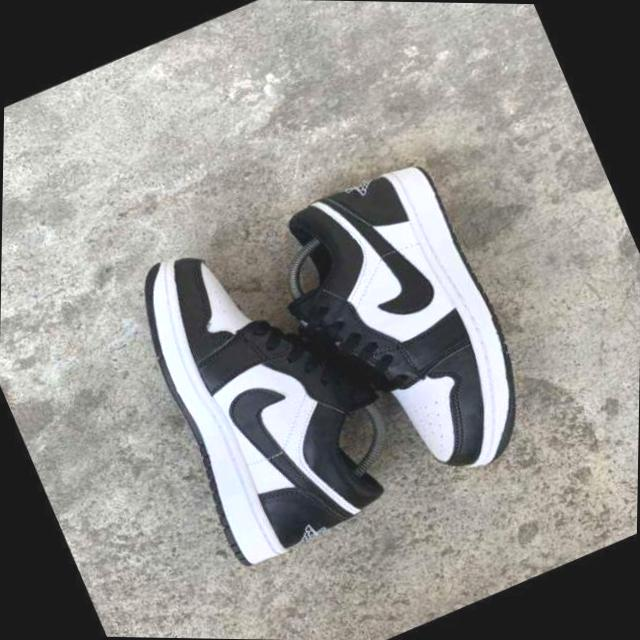nike_fake_jordan: (111, 202, 428, 578), (248, 150, 558, 523)
